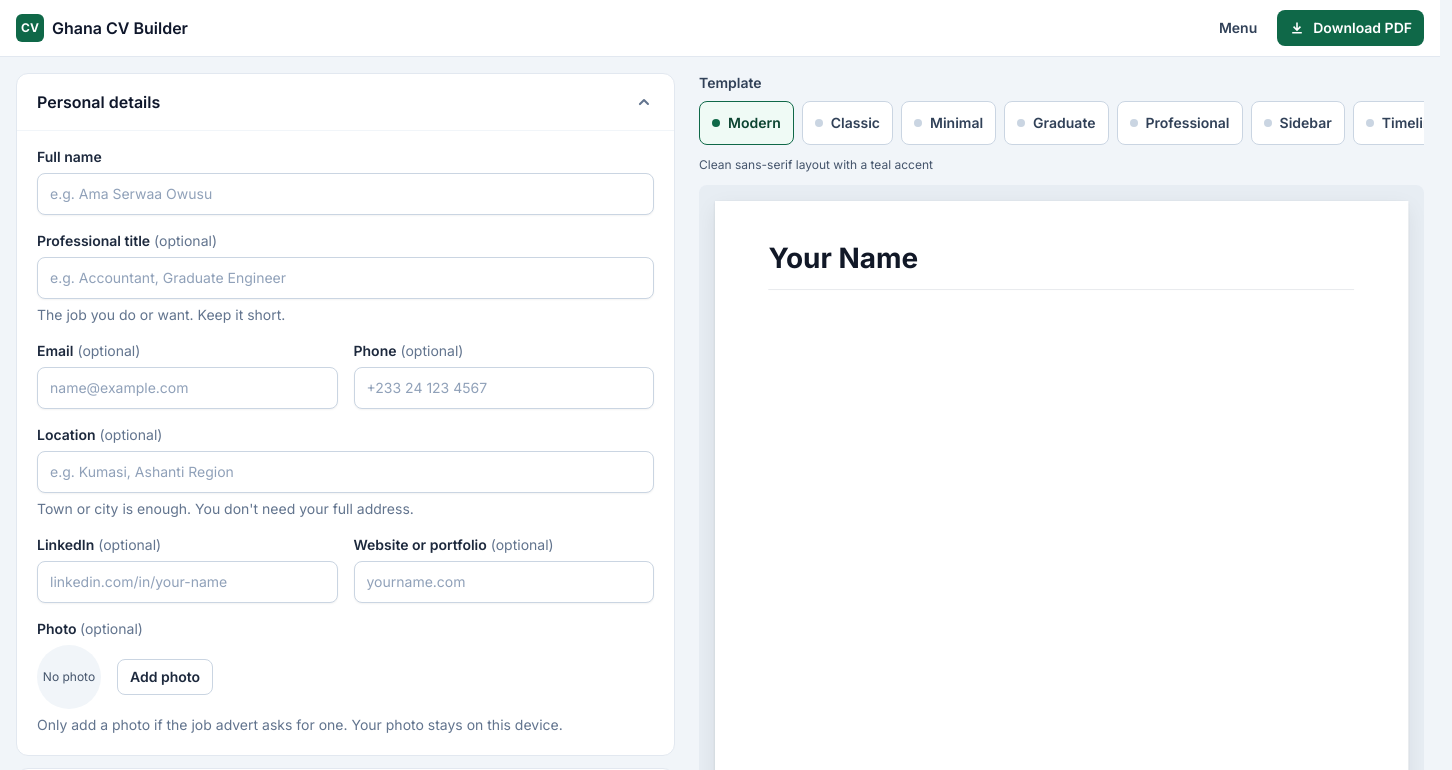
Test: Builder › blocks export until problems are fixed and focuses the first one
Expected: the field labelled "Full name" is shown, [37,173,654,215]
What coordinates should you click on to do the following:
click the button "Download PDF"
I would click on:
 (1351, 28)
Its box is [1277,10,1424,46].
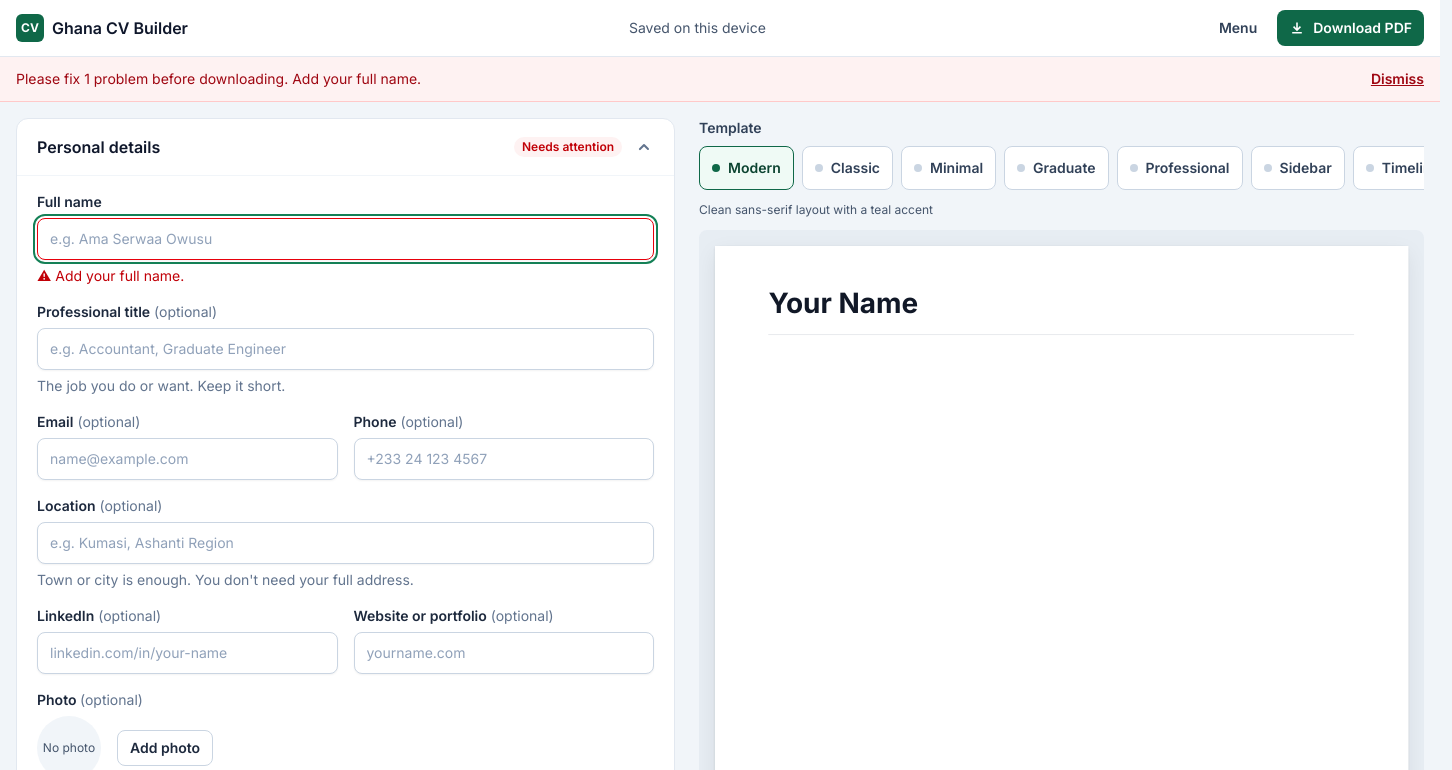
Result: the message shows "Add your full name." at [16,70,421,87]
Result: the text "Needs attention" is shown at [514,137,622,157]
